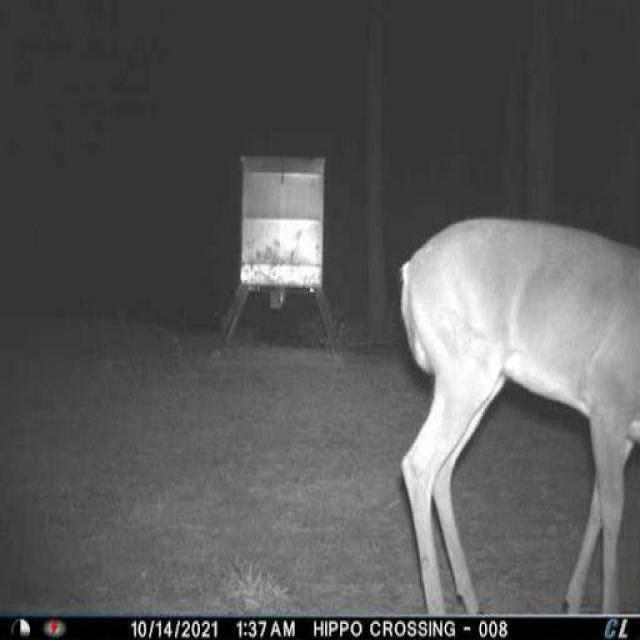deer: (392, 202, 640, 614)
